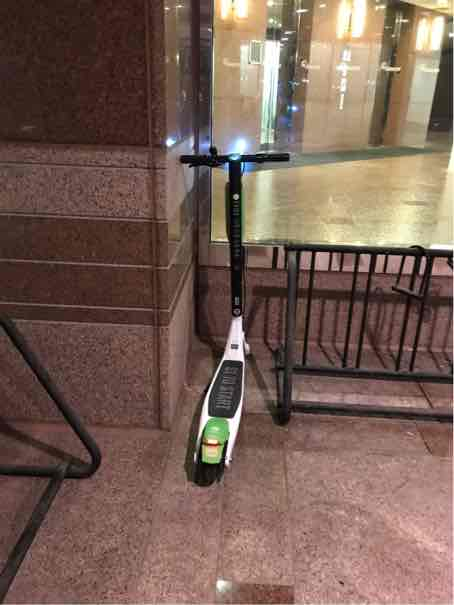scooter: (168, 131, 294, 486)
